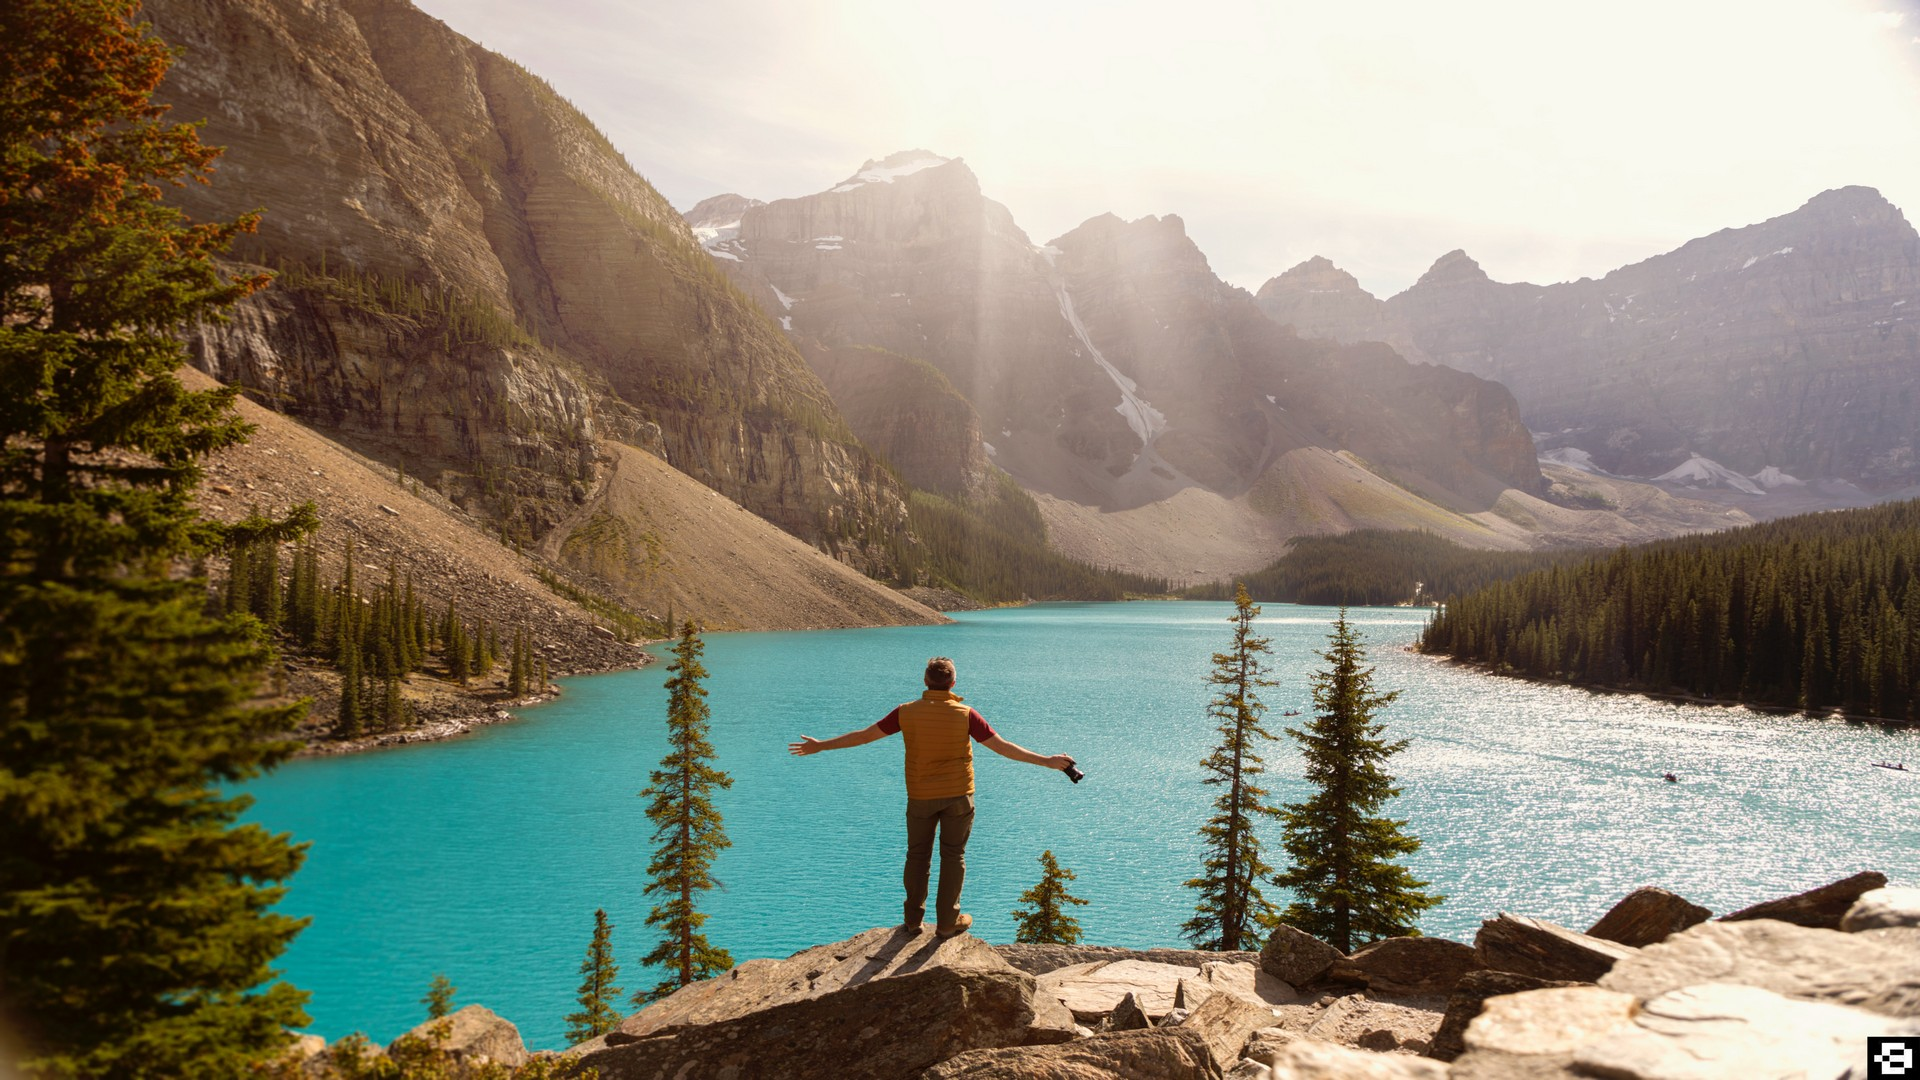marker: (1863, 1033, 1920, 1080)
